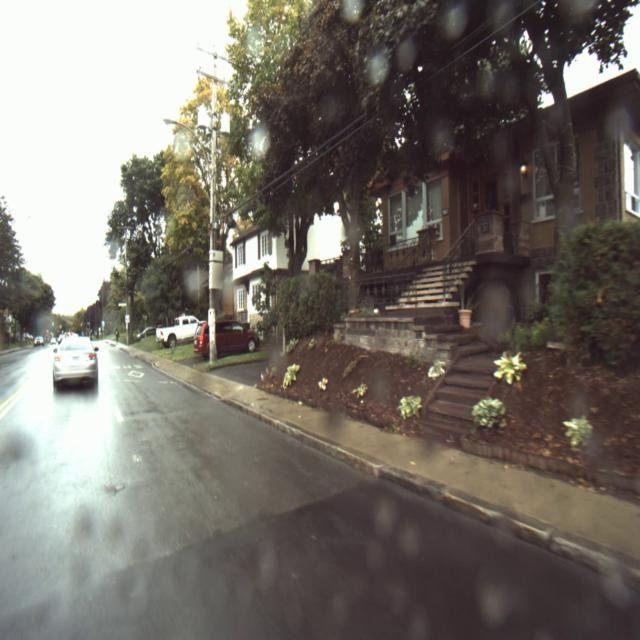car: (196, 322, 260, 360), (160, 316, 200, 346)
